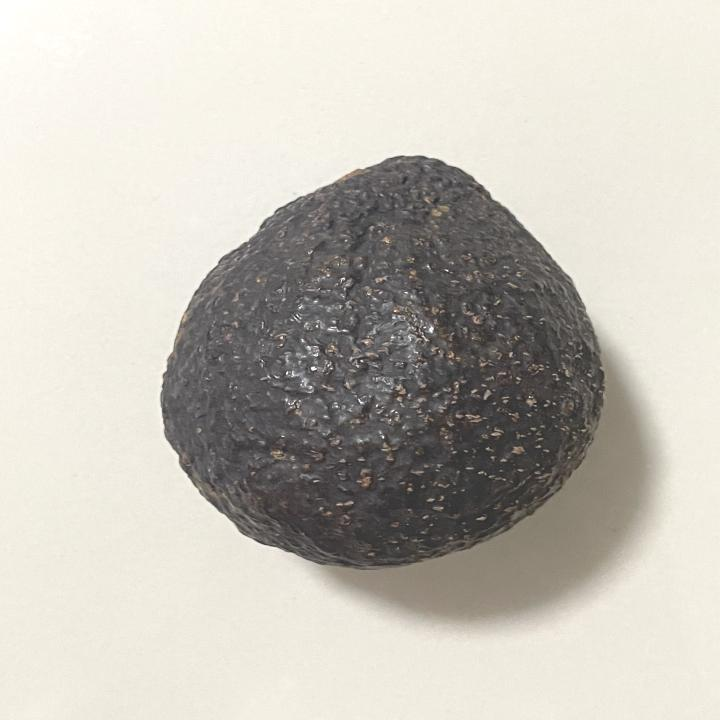Level3: (144, 143, 618, 578)
